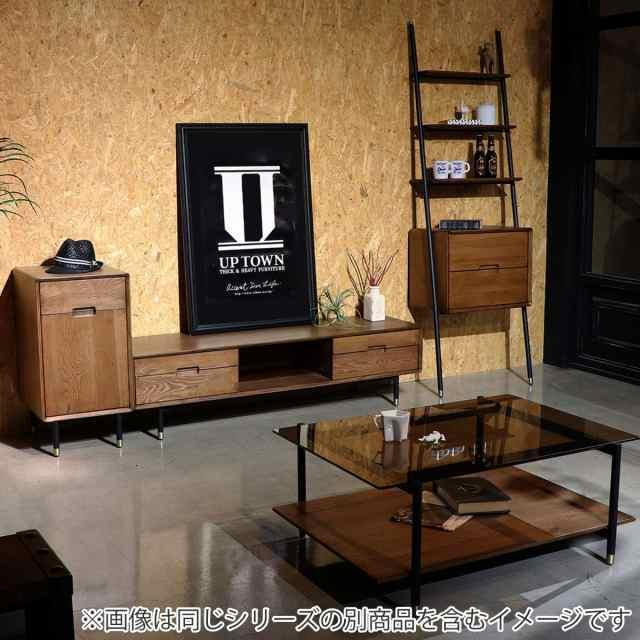vintage desk: (268, 399, 638, 598)
vintage shelf: (9, 256, 420, 412), (396, 11, 544, 392)
